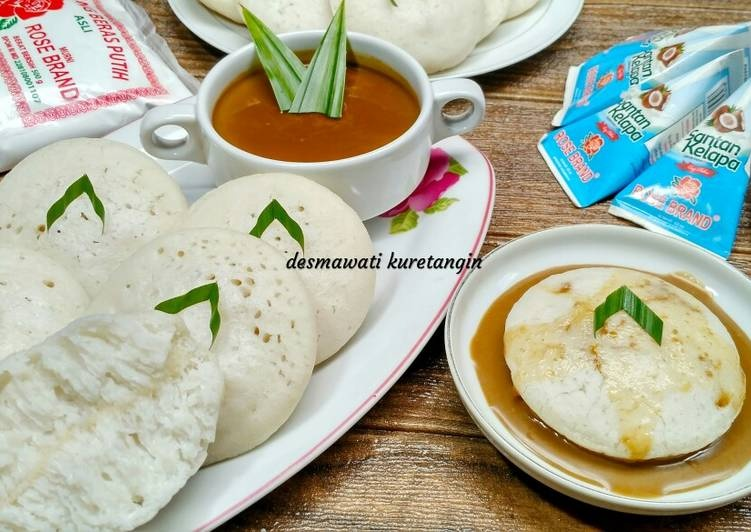srabi: (471, 219, 750, 496)
